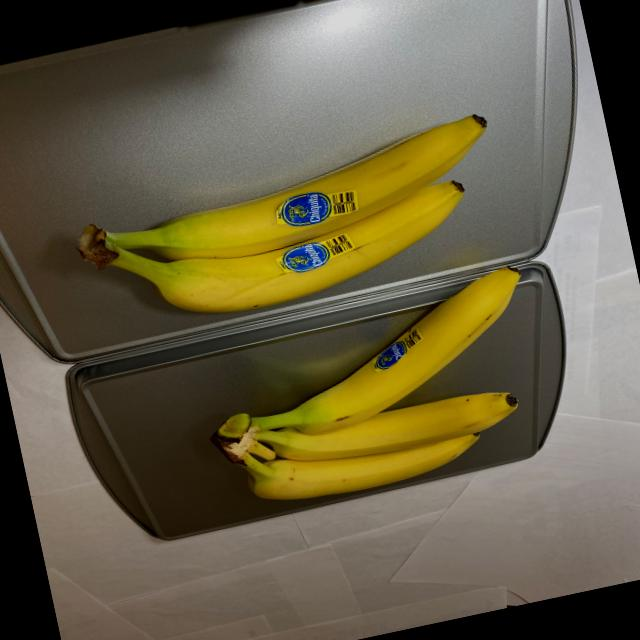banana: (61, 99, 516, 348), (185, 261, 569, 522)
